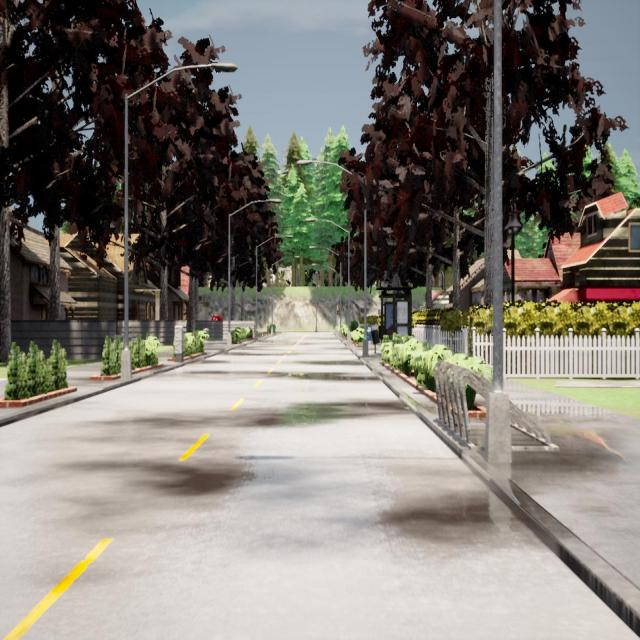traffic_light: (336, 307, 339, 315)
